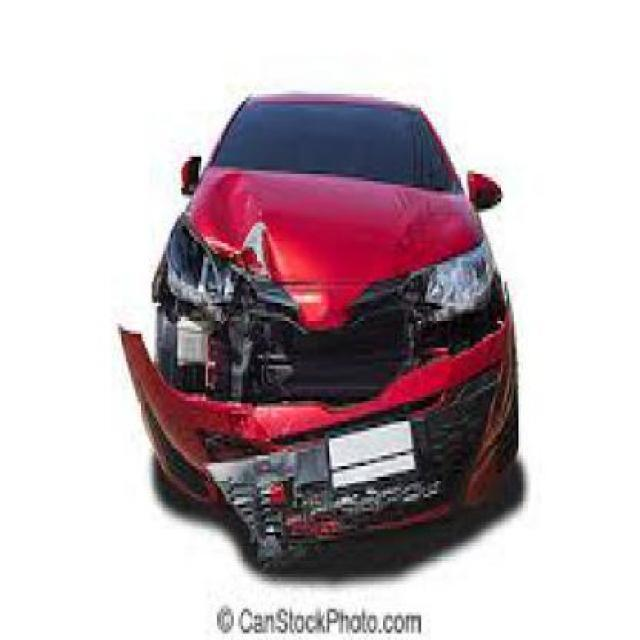damaged-front-bumper: (116, 294, 524, 546)
